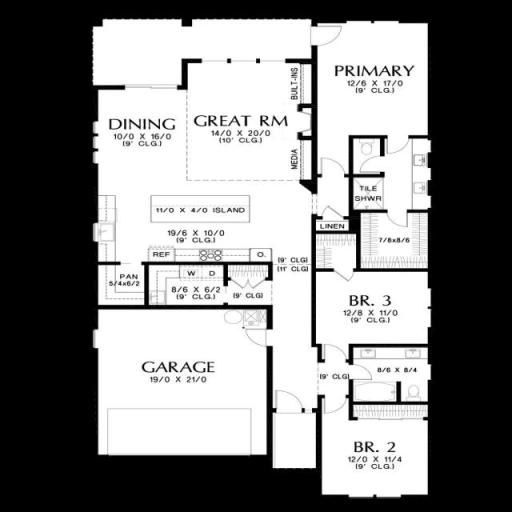Room: (104, 91, 183, 233)
bedroom: (322, 400, 426, 498), (316, 268, 426, 348)
garage: (100, 308, 273, 456)
hall: (192, 70, 306, 238)
